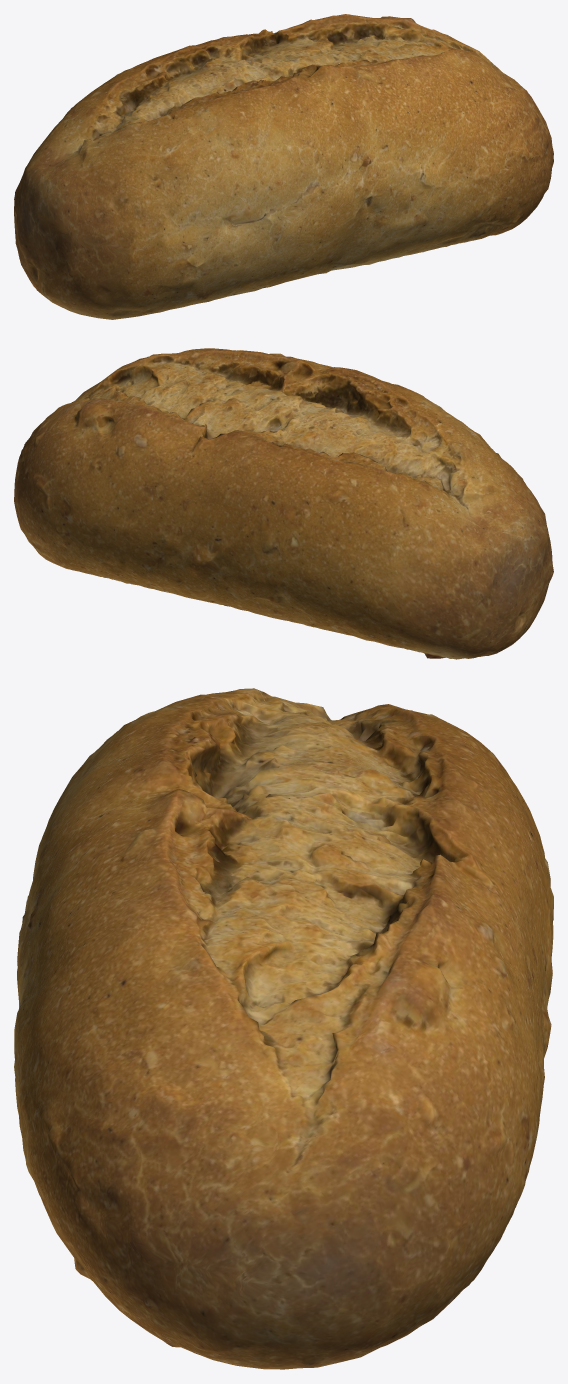
File: BakeryProduct4_LOD1.gltf
3 renders of one model, top to bottom at view 1: azimuth 30°, elevation 25°; view 2: azimuth 150°, elevation 25°; view 3: azimuth 270°, elevation 25°, orthographic. The views are drawn at different scales.
Parts seen in each view (by area): view 1: BakeryProduct4_LOD1; view 2: BakeryProduct4_LOD1; view 3: BakeryProduct4_LOD1.
Part boxes in pixels (left/top/right/bottom): BakeryProduct4_LOD1: left=14, top=14, right=553, bottom=319; BakeryProduct4_LOD1: left=14, top=348, right=553, bottom=659; BakeryProduct4_LOD1: left=14, top=688, right=553, bottom=1369.
Size of the model in its own units: 0.1275 by 0.0525 by 0.0645.
1 material, 1 textured.
